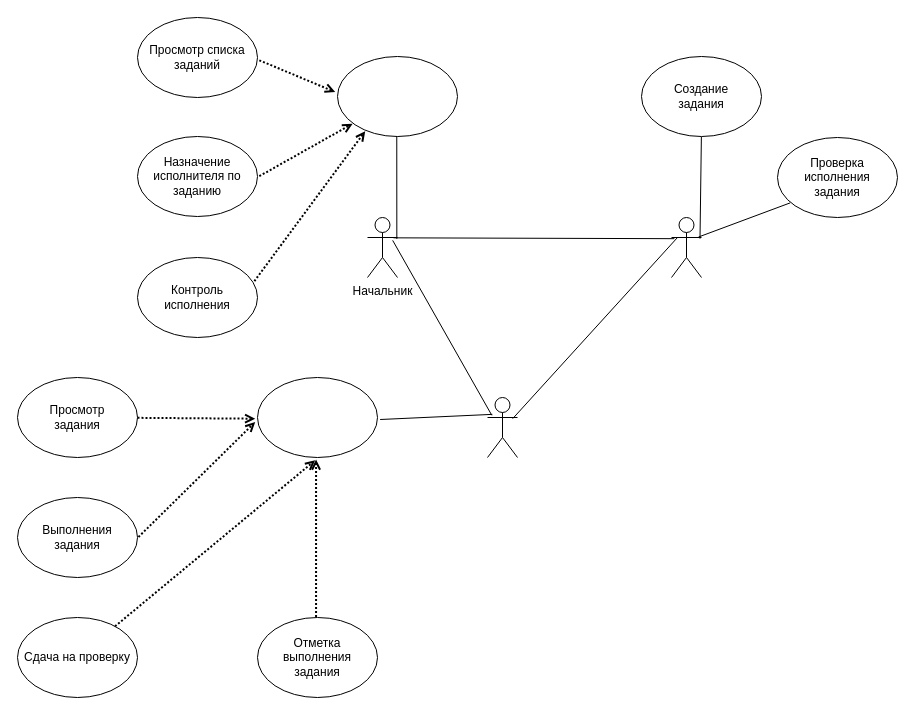
Some shapes in this 915 by 715 pixel diagram are drawn without their labels. Each missing label, with the box of its shape:
Заказчик: (670, 216, 702, 278)
Исполнение задания: (256, 376, 378, 458)
Сотрудник: (486, 396, 518, 458)
Список заданий: (336, 56, 458, 136)
